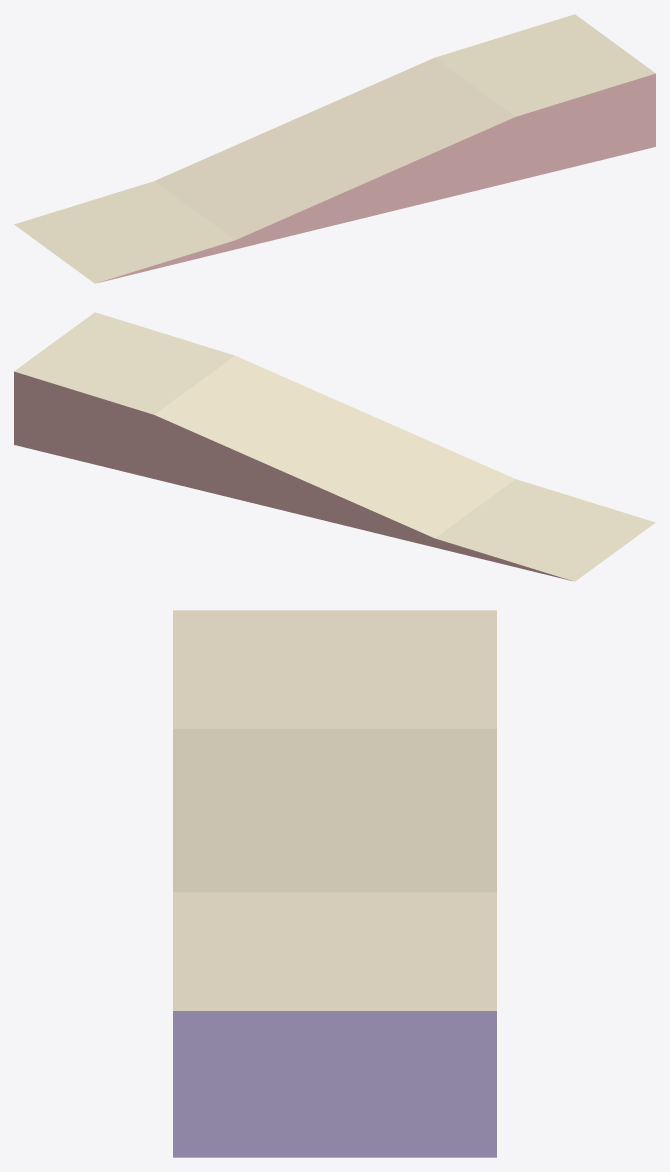
The model's file is Terrain_Sand_Incline_Straight_1x4.glb.
The picture shows the model from 3 angles, top to bottom: view 1: azimuth 30°, elevation 25°; view 2: azimuth 150°, elevation 25°; view 3: azimuth 270°, elevation 25°; orthographic projection. The views are drawn at different scales.
Visible parts, largest first — view 1: Terrain_Sand_Incline_Straight_1x4; view 2: Terrain_Sand_Incline_Straight_1x4; view 3: Terrain_Sand_Incline_Straight_1x4.
Boxes of the visible parts, box(x1,y1,x2,y2) form: Terrain_Sand_Incline_Straight_1x4: box(14, 14, 655, 283); Terrain_Sand_Incline_Straight_1x4: box(14, 312, 655, 581); Terrain_Sand_Incline_Straight_1x4: box(173, 610, 496, 1157).
Bounding box in the file's own units: 400 × 50 × 100.
